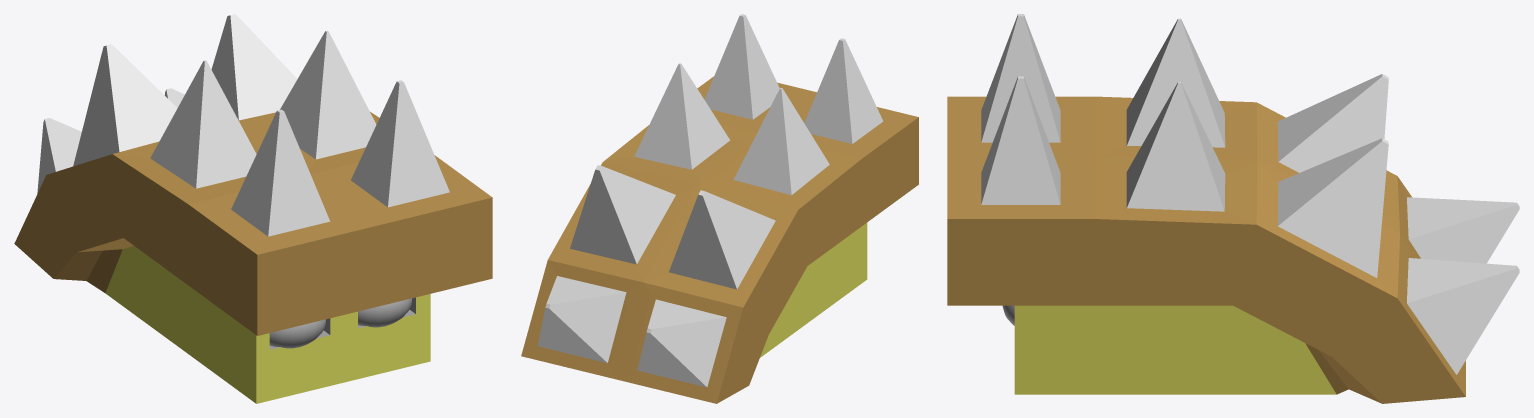
Rendered from enemigo1 textura.fbx.
3 views of the same model, side by side, from view 1: azimuth 30°, elevation 25°; view 2: azimuth 150°, elevation 25°; view 3: azimuth 270°, elevation 25° (orthographic). The views are drawn at different scales.
Parts seen in each view (by area): view 1: pSphere3; view 2: pSphere3; view 3: pSphere3.
Part boxes in pixels (left/top/right/bottom): pSphere3: left=14, top=14, right=492, bottom=403; pSphere3: left=521, top=14, right=918, bottom=403; pSphere3: left=947, top=14, right=1519, bottom=403.
Bounding box in the file's own units: 2.65 × 3.06 × 5.25.
